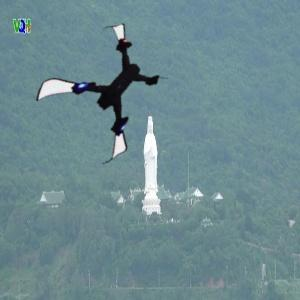drone: (50, 38, 171, 159)
